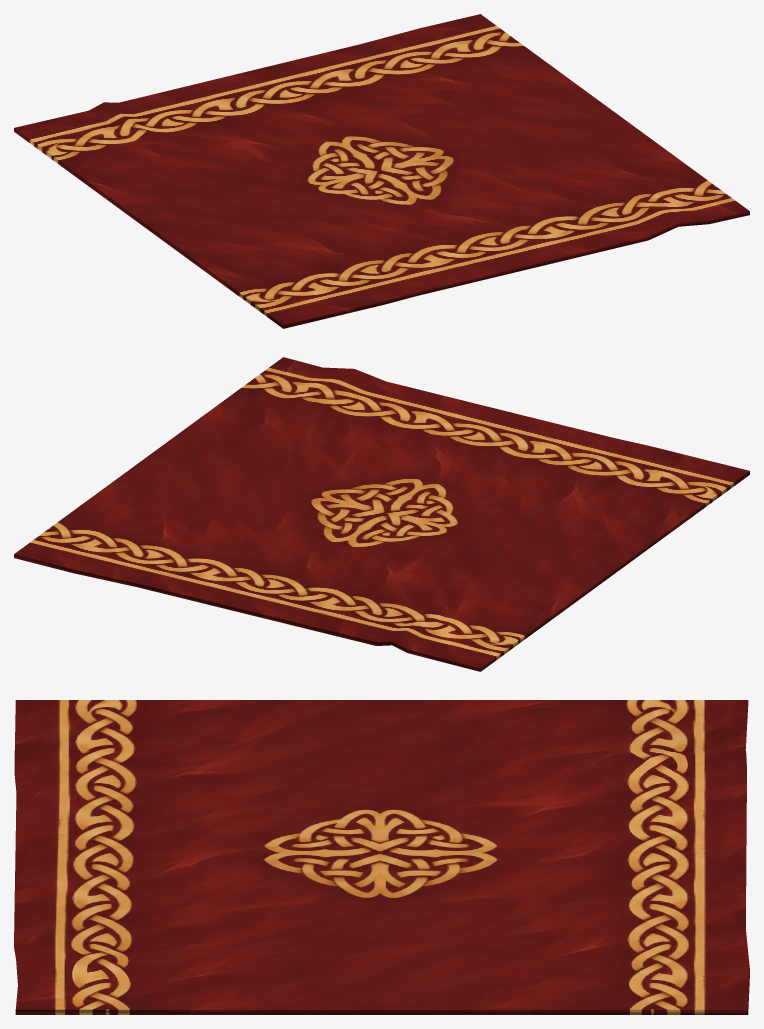
Rendered from Carpet_01_02.fbx.
3 renders of one model, top to bottom at view 1: azimuth 30°, elevation 25°; view 2: azimuth 150°, elevation 25°; view 3: azimuth 270°, elevation 25°, orthographic. The views are drawn at different scales.
Parts seen in each view (by area): view 1: Carpet_01.001; view 2: Carpet_01.001; view 3: Carpet_01.001.
Part boxes in pixels (x1,y1,x2,y2): Carpet_01.001: (14, 14, 749, 328); Carpet_01.001: (14, 357, 749, 671); Carpet_01.001: (14, 700, 749, 1014).
Size of the model in its own units: 2 by 2.01 by 0.039.
